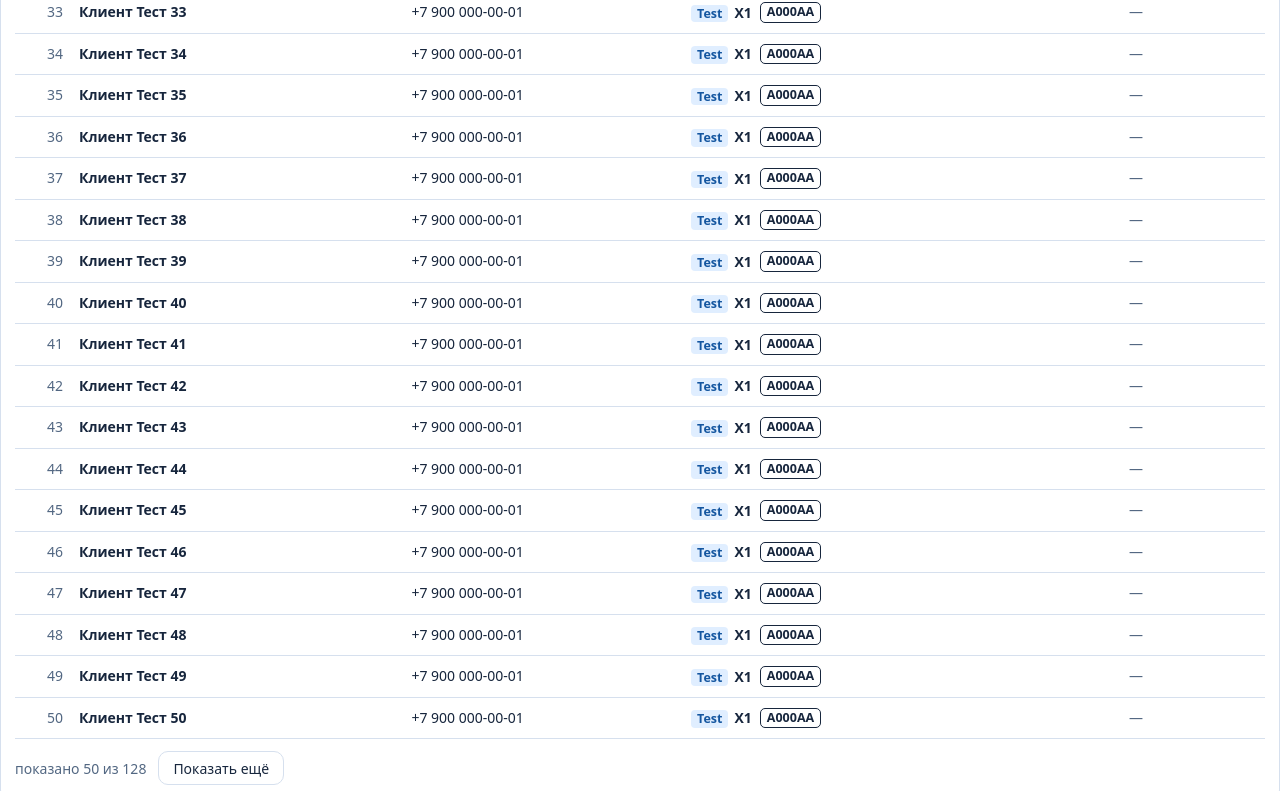
Test case: CustomersPage › loads more customers and keeps numbering
The width and height of the screenshot is (1280, 791).
(page scrolled)
Check: the text "показано 50 из 128" is shown, box left=15, top=759, right=146, bottom=778
Click the button "Показать ещё". click: x=221, y=768
box: left=158, top=751, right=284, bottom=785
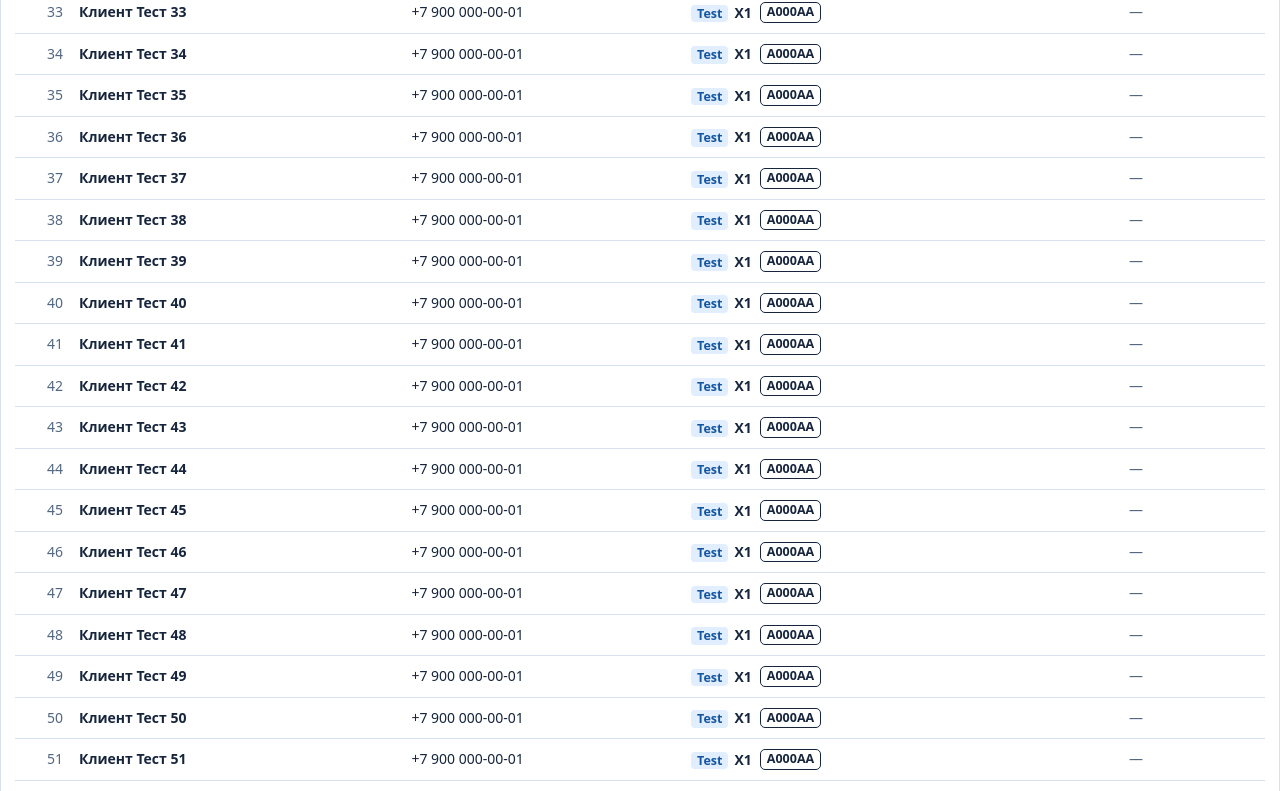
Check: the text "51" is shown, box left=47, top=749, right=63, bottom=768
Check: the button "Показать ещё" is gone
